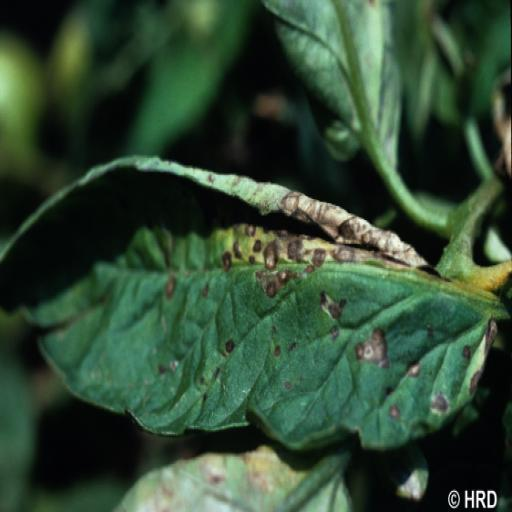disease_tomato: (0, 148, 496, 458)
